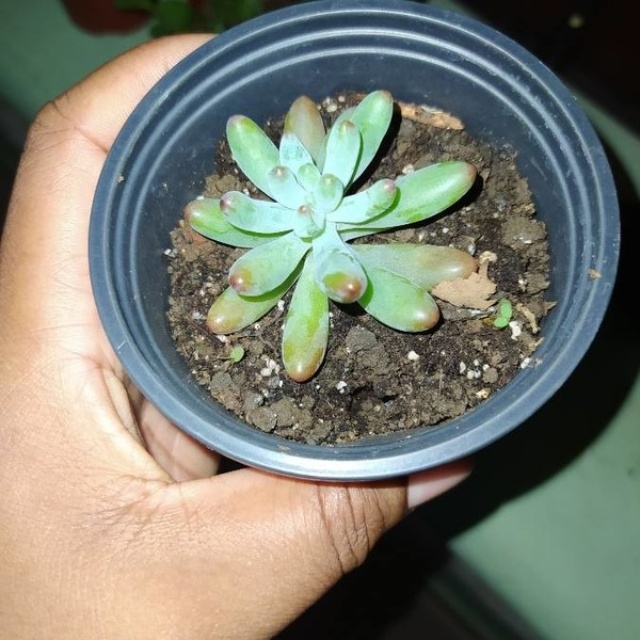obstacle: (86, 17, 619, 481)
